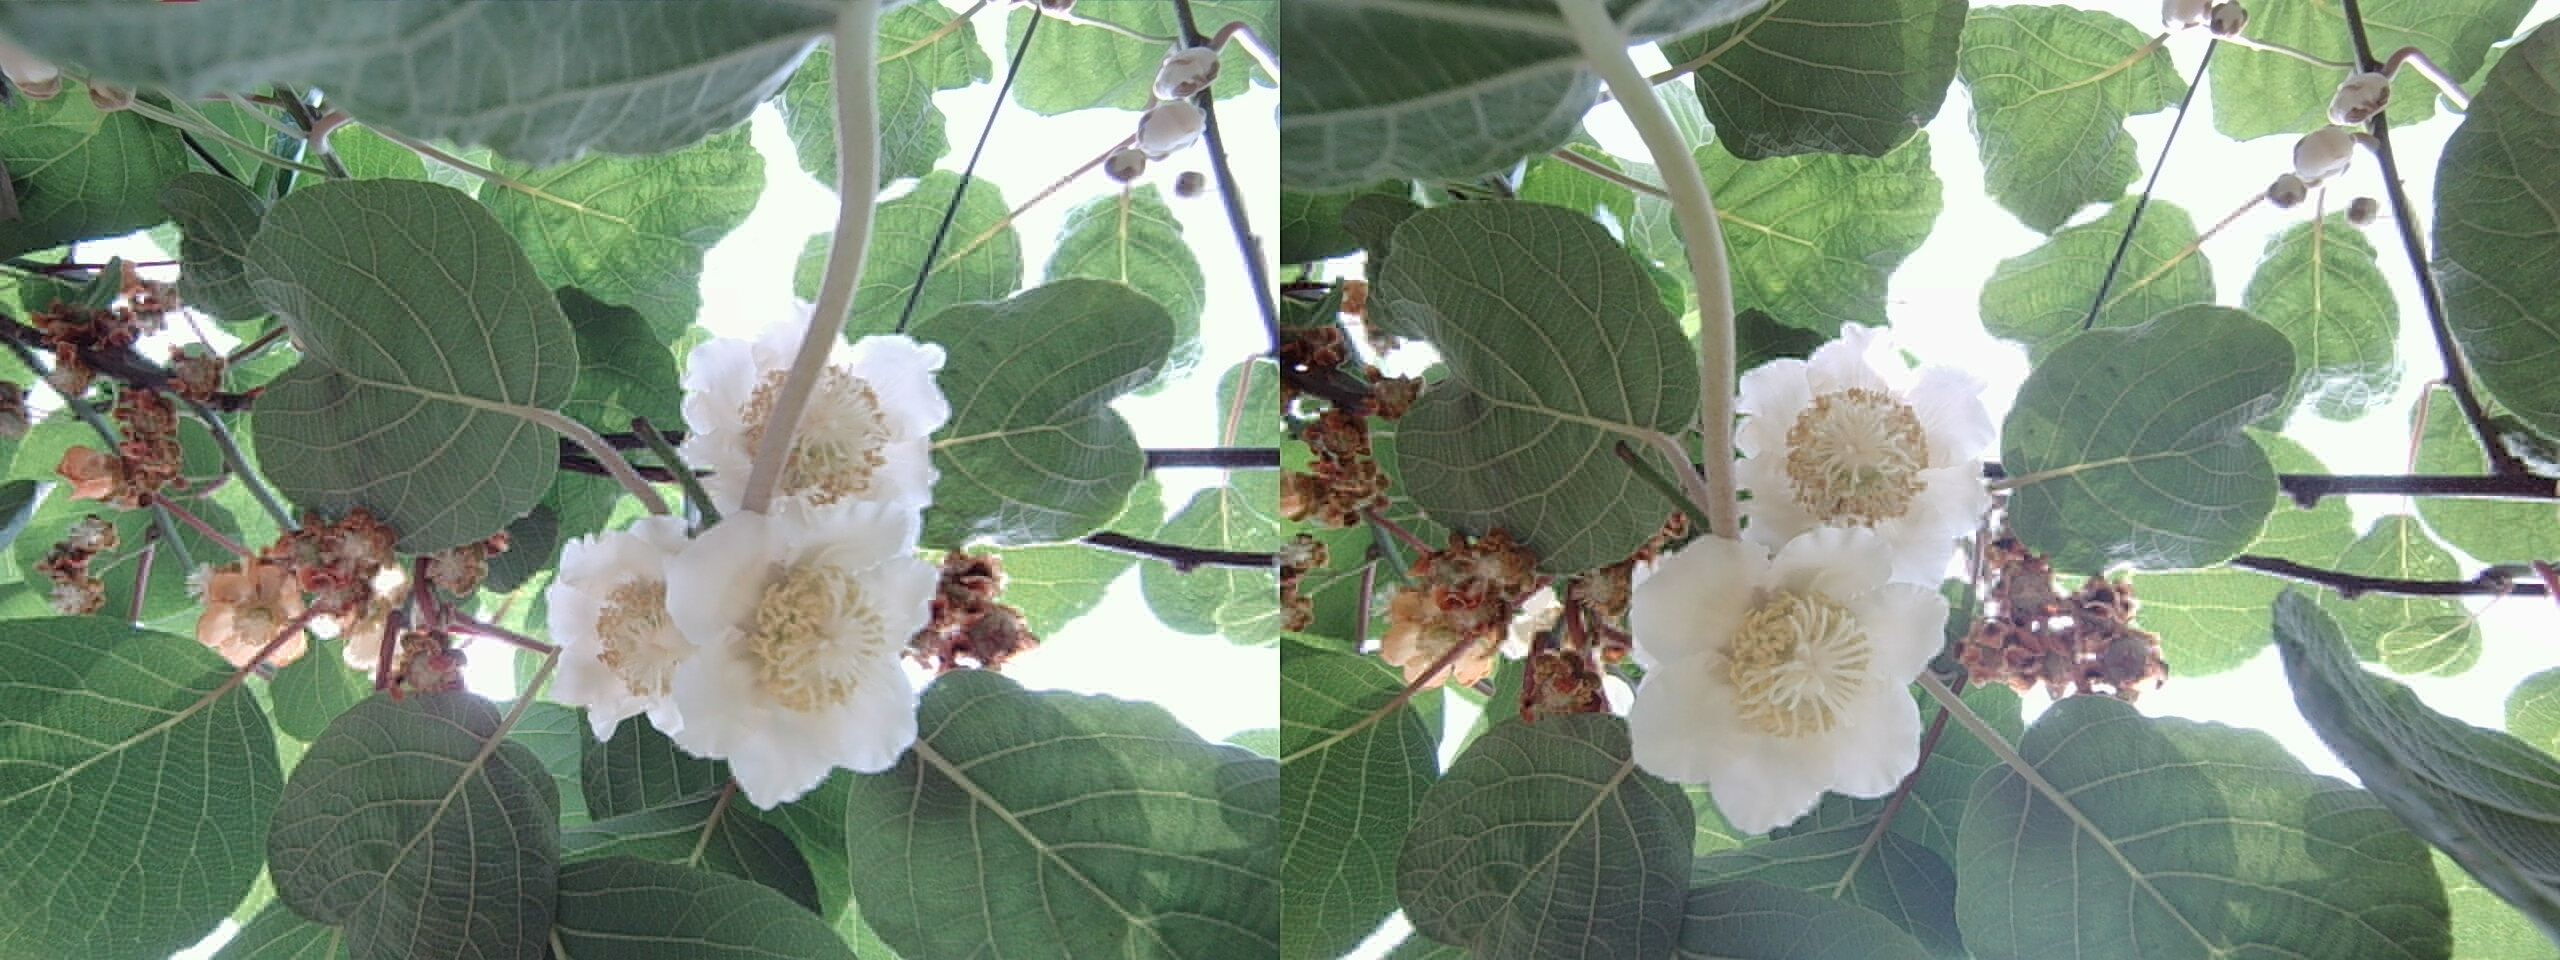flower: (1629, 522, 1935, 820), (661, 513, 922, 797), (1731, 325, 1984, 570), (704, 323, 947, 544), (544, 526, 713, 736), (1376, 519, 1543, 671), (896, 540, 1025, 673)
